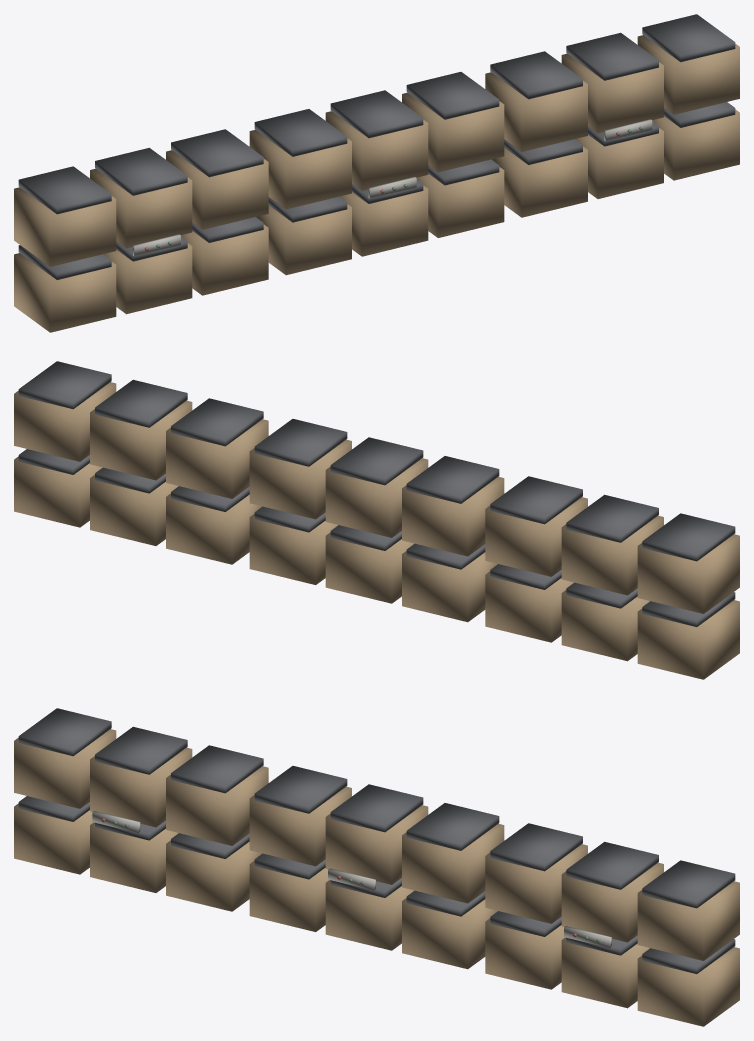
File: produce_stand__cluster.glb
3 renders of one model, top to bottom at view 1: azimuth 30°, elevation 25°; view 2: azimuth 150°, elevation 25°; view 3: azimuth 330°, elevation 25°, orthographic.
Visible parts, largest first — view 1: world; view 2: world; view 3: world.
Boxes of the visible parts, x1,y1,x2,y2 form: world: (14,14,739,332); world: (14,361,739,679); world: (14,708,739,1026).
Size of the model in its own units: 4.17 by 0.72 by 0.431.
